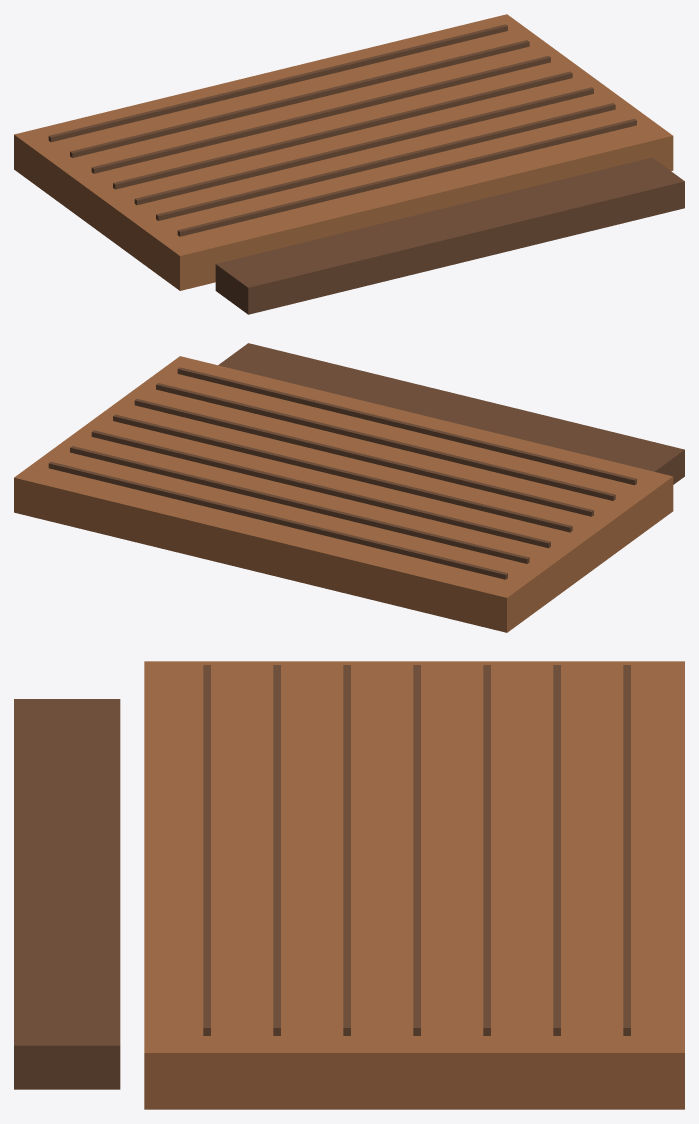
Rendered from component-deck-module.meshopt.glb.
3 renders of one model, top to bottom at view 1: azimuth 30°, elevation 25°; view 2: azimuth 150°, elevation 25°; view 3: azimuth 270°, elevation 25°, orthographic. The views are drawn at different scales.
Visible parts, largest first — view 1: deck_base, front_step, plank_gap_1, plank_gap_4, plank_gap_6, plank_gap_5, plank_gap_2, plank_gap_3, plank_gap_7; view 2: deck_base, front_step, plank_gap_2, plank_gap_7, plank_gap_5, plank_gap_1, plank_gap_3, plank_gap_4, plank_gap_6; view 3: deck_base, front_step, plank_gap_1, plank_gap_2, plank_gap_3, plank_gap_4, plank_gap_5, plank_gap_6, plank_gap_7.
Part boxes in pixels (x1,y1,x2,y2): deck_base: [14, 14, 673, 290]; front_step: [215, 157, 684, 314]; plank_gap_1: [48, 24, 507, 142]; plank_gap_4: [113, 71, 572, 189]; plank_gap_6: [156, 103, 615, 220]; plank_gap_5: [134, 87, 593, 205]; plank_gap_2: [70, 40, 529, 157]; plank_gap_3: [91, 55, 550, 173]; plank_gap_7: [177, 118, 636, 236]; deck_base: [14, 356, 673, 632]; front_step: [218, 343, 684, 484]; plank_gap_2: [70, 446, 529, 563]; plank_gap_7: [177, 367, 636, 485]; plank_gap_5: [134, 399, 593, 516]; plank_gap_1: [48, 461, 507, 579]; plank_gap_3: [91, 430, 550, 548]; plank_gap_4: [113, 414, 572, 532]; plank_gap_6: [156, 383, 615, 500]; deck_base: [144, 661, 684, 1109]; front_step: [14, 699, 120, 1089]; plank_gap_1: [623, 665, 630, 1035]; plank_gap_2: [553, 665, 560, 1035]; plank_gap_3: [483, 665, 490, 1035]; plank_gap_4: [413, 665, 420, 1035]; plank_gap_5: [343, 665, 350, 1035]; plank_gap_6: [273, 665, 280, 1035]; plank_gap_7: [203, 665, 210, 1035].
Bounding box in the file's own units: 1.92 × 0.159 × 1.39.
